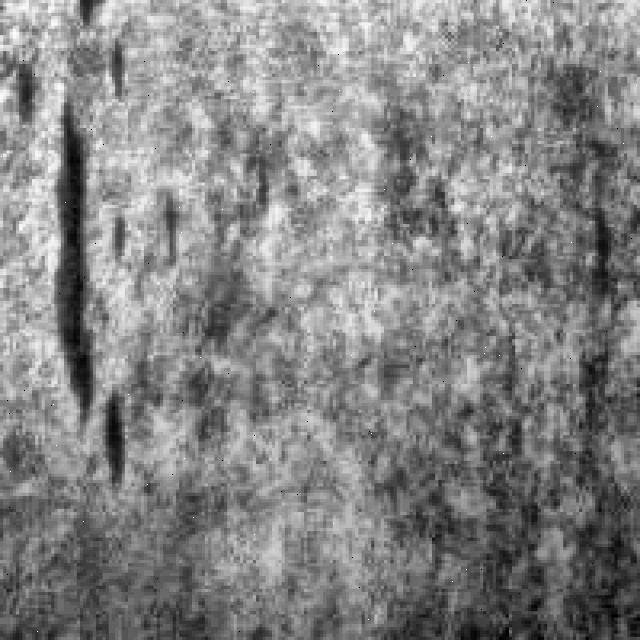Patches: (42, 80, 164, 490)
